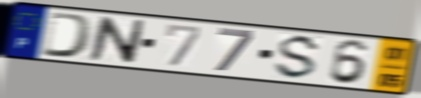6: (327, 38, 371, 86)
7: (212, 26, 259, 75), (163, 22, 204, 69)
D: (39, 10, 96, 60)
N: (86, 15, 148, 66)
S: (271, 33, 324, 81)
